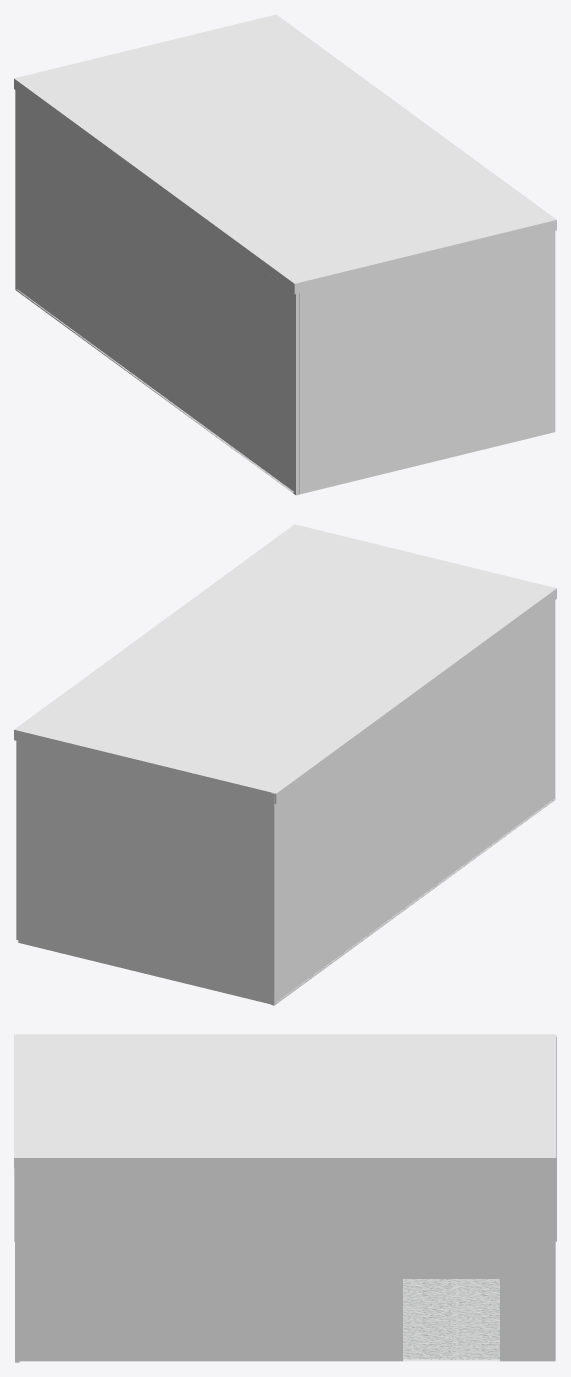
File: tienda.obj
3 views of the same model, one above another, from view 1: azimuth 30°, elevation 25°; view 2: azimuth 150°, elevation 25°; view 3: azimuth 270°, elevation 25° (orthographic). The views are drawn at different scales.
Parts seen in each view (by area): view 1: group10 group9 group8 pCube48, group10 group9 group8 pCube65, group10 group9 group8 pCube61, group10 group9 group8 polySurface55pasted__pCube18group1; view 2: group10 group9 group8 pCube48, group10 group9 group8 pCube65, group10 group9 group8 pCube64, pCube54 group10 group9 group8, group10 group9 group8 polySurface55pasted__pCube18group1, group10 group9 group8 pCube56; view 3: group10 group9 group8 pCube56, group10 group9 group8 pCube48, group10 group9 group8 polySurface55pasted__pCube18group1, group10 group9 group8 pCube64.
Boxes of the visible parts, x1,y1,x2,y2 form: group10 group9 group8 pCube48: [14, 14, 556, 294]; group10 group9 group8 pCube65: [15, 90, 299, 495]; group10 group9 group8 pCube61: [299, 231, 555, 494]; group10 group9 group8 polySurface55pasted__pCube18group1: [16, 289, 293, 492]; group10 group9 group8 pCube48: [14, 524, 556, 803]; group10 group9 group8 pCube65: [271, 600, 555, 1005]; group10 group9 group8 pCube64: [18, 745, 270, 1004]; pCube54 group10 group9 group8: [17, 740, 270, 806]; group10 group9 group8 polySurface55pasted__pCube18group1: [277, 799, 555, 1001]; group10 group9 group8 pCube56: [16, 741, 18, 939]; group10 group9 group8 pCube56: [15, 1168, 553, 1361]; group10 group9 group8 pCube48: [14, 1034, 556, 1168]; group10 group9 group8 polySurface55pasted__pCube18group1: [403, 1279, 499, 1359]; group10 group9 group8 pCube64: [553, 1170, 555, 1361].
Size of the model in its own units: 8.2 by 6.32 by 15.15.
4 materials, 4 textured.
